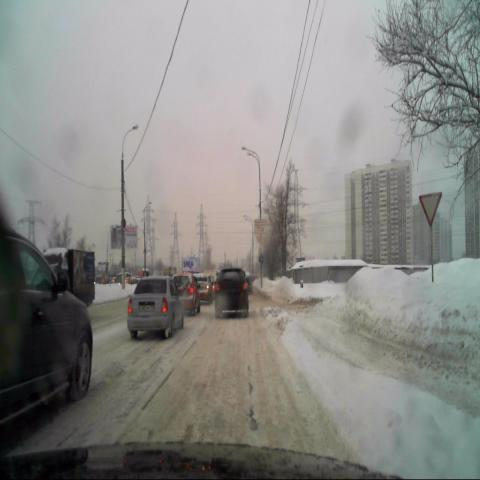2_4: (418, 190, 443, 228)
